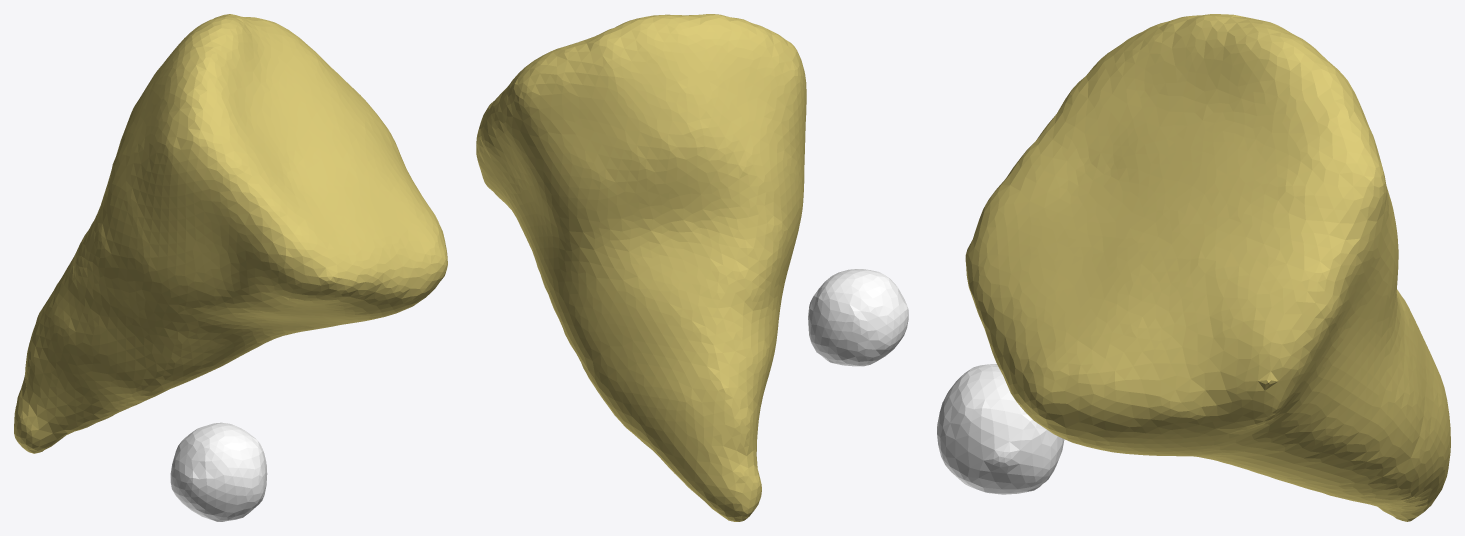
Rendered from icebase.obj.
3 renders of one model, left to right at view 1: azimuth 30°, elevation 25°; view 2: azimuth 150°, elevation 25°; view 3: azimuth 270°, elevation 25°, orthographic. The views are drawn at different scales.
Size of the model in its own units: 0.2274 by 0.2853 by 0.2321.
